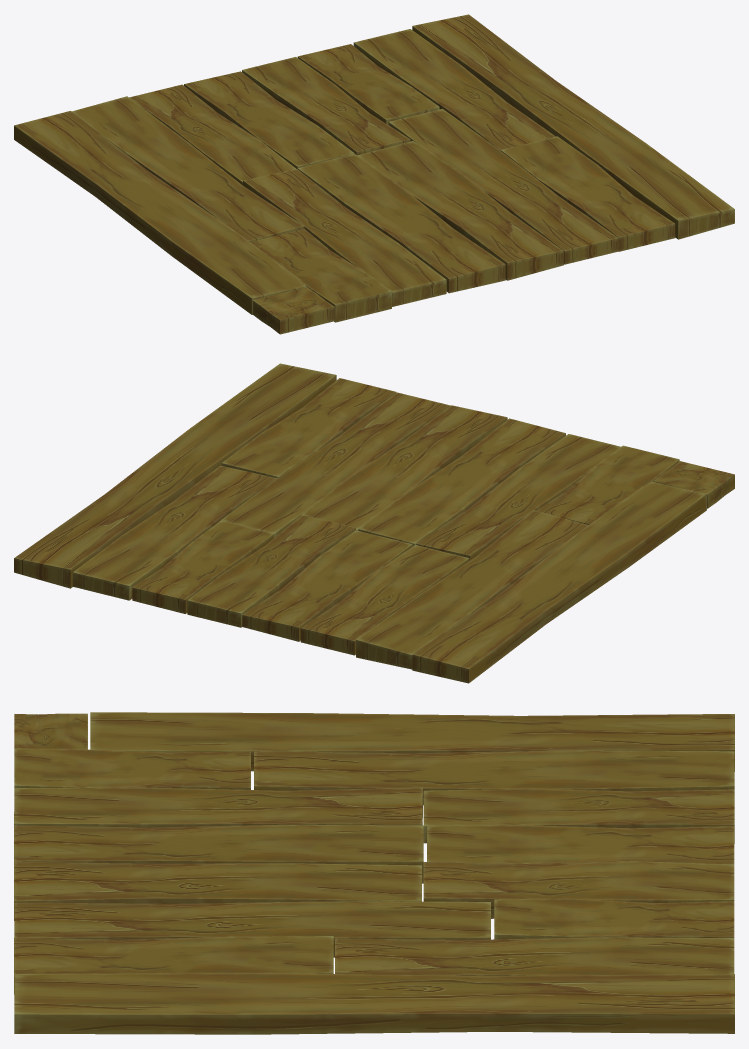
The model's file is Wooden_floor_2.fbx.
3 views of the same model, one above another, from view 1: azimuth 30°, elevation 25°; view 2: azimuth 150°, elevation 25°; view 3: azimuth 270°, elevation 25° (orthographic). The views are drawn at different scales.
Parts seen in each view (by area): view 1: Wooden_plank_1.038; view 2: Wooden_plank_1.038; view 3: Wooden_plank_1.038.
Part boxes in pixels (<box>): Wooden_plank_1.038: <box>14,14,734,334</box>; Wooden_plank_1.038: <box>14,363,734,683</box>; Wooden_plank_1.038: <box>14,712,734,1034</box>.
Size of the model in its own units: 2.3 by 0.0932 by 2.32.
